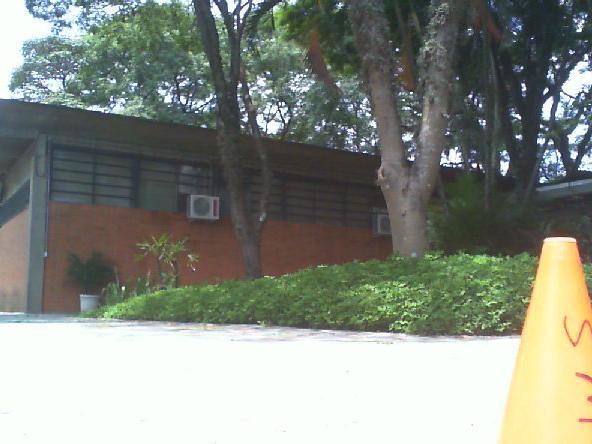0 cone: (489, 237, 592, 444)
